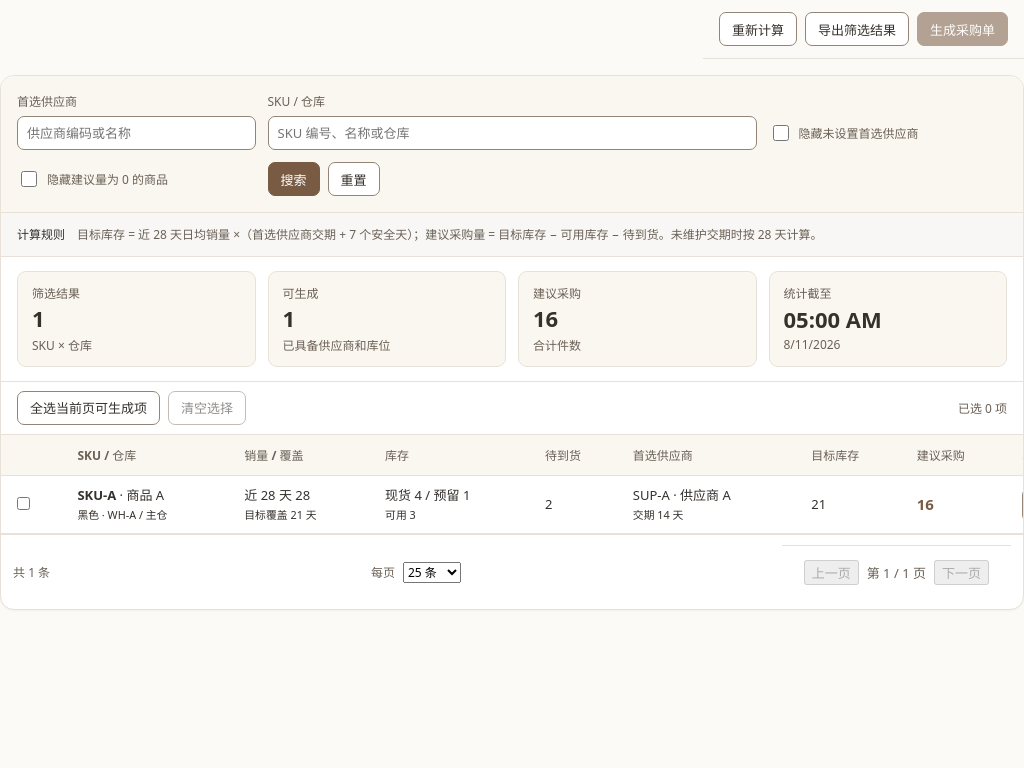
Test: smart procurement generation › shows explainable real recommendations and generates a purchase order
Expected: the table named "补货建议列表" is shown, [1,435,1023,534]
Expected: the text "目标库存 = 近 28 天日均销量" is shown, [77,226,823,243]
What coordinates should you click on to do the following:
click the checkbox named "选择 SKU-A WH-A"
I would click on:
 (24, 504)
Its box is [17,497,30,510].
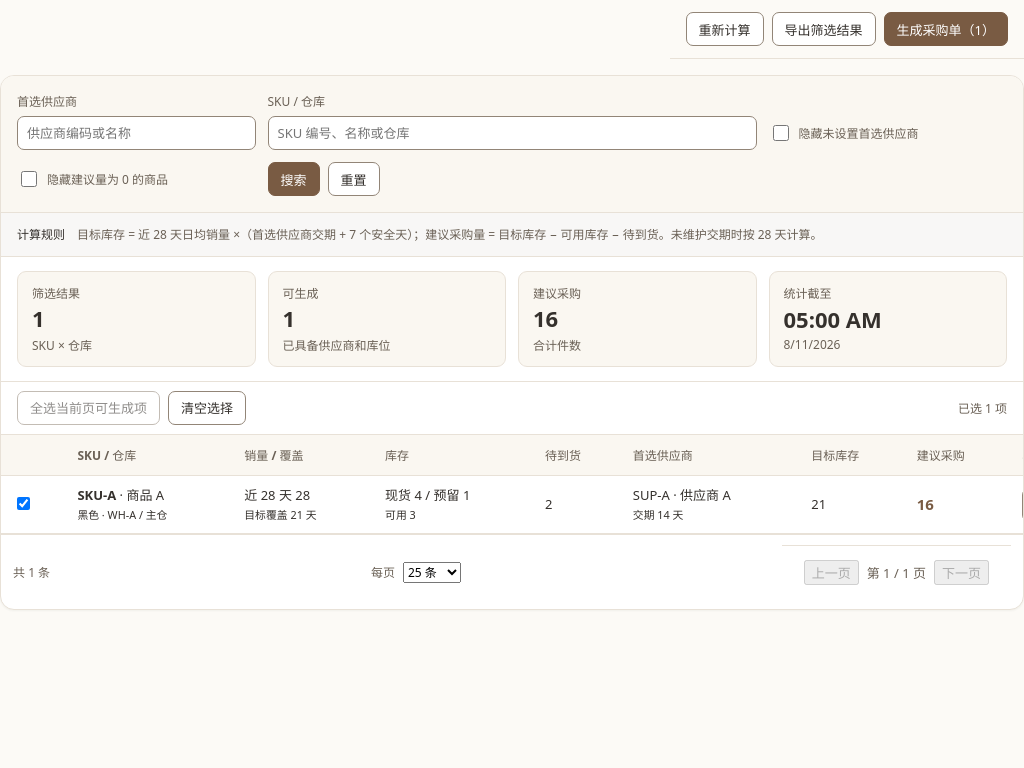
What coordinates should you click on to do the following:
click the button "生成采购单（1）"
I would click on:
 (946, 29)
Its box is [884,12,1008,46].
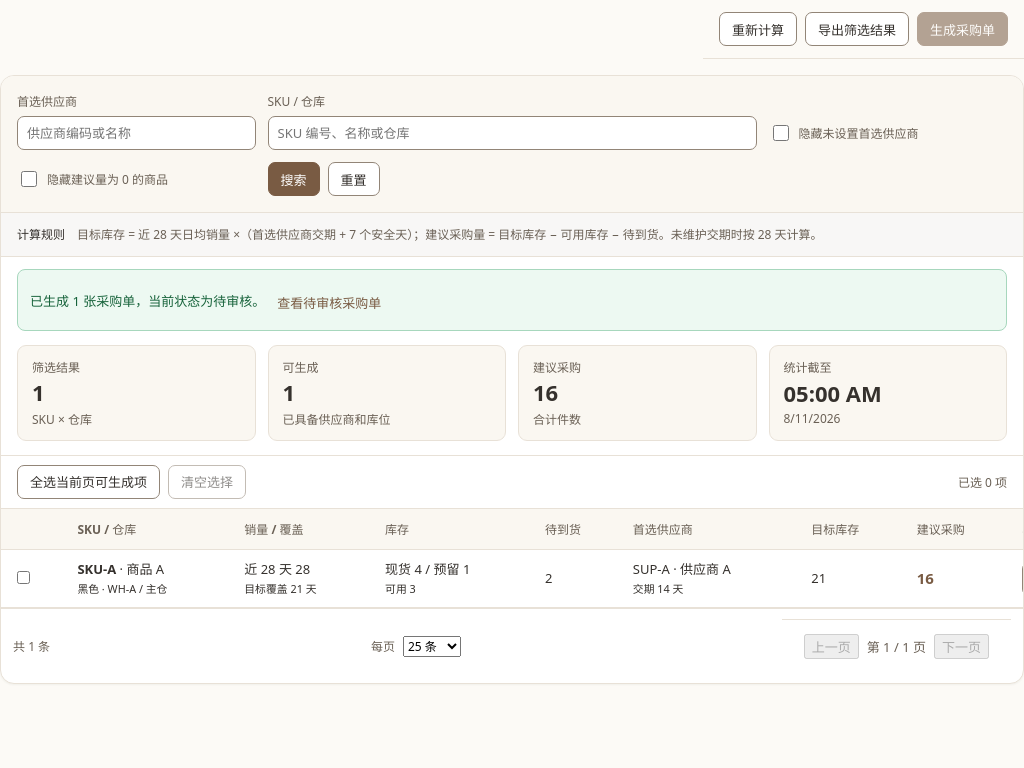
Now the text "已生成 1 张采购单，当前状态为待审核。" is shown, box [30,292,265,310]
Now the button "查看待审核采购单" is shown, box [277,284,381,320]
